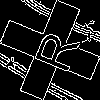R: (25, 25, 81, 75)
